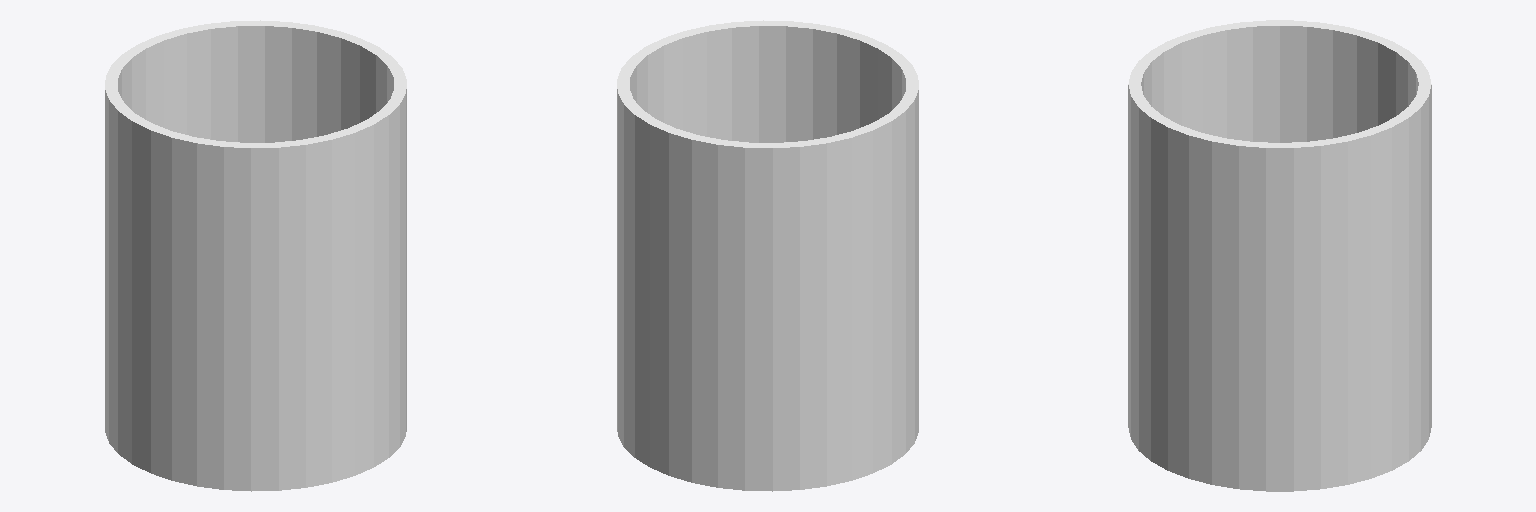
URDF robot description (big_cup.SLDPRT):
<?xml version="1.0" encoding="utf-8"?>
<!-- This URDF was automatically created by SolidWorks to URDF Exporter! Originally created by [author] ([email redacted]) 
     Commit Version: 1.5.1-0-g916b5db  Build Version: 1.5.7152.31018
     For more information, please see http://wiki.ros.org/sw_urdf_exporter -->
<robot
  name="big_cup.SLDPRT">
  <link
    name="big_cup">
    <inertial>
      <origin
        xyz="5.8018E-35 -6.10564842751986E-18 0.056824"
        rpy="0 0 0" />
      <mass
        value="0.1098" />
      <inertia
        ixx="0.00041227"
        ixy="-2.5101E-36"
        ixz="-7.6813E-36"
        iyy="0.00041227"
        iyz="1.3701315869011E-20"
        izz="0.00031239" />
    </inertial>
    <visual>
      <origin
        xyz="0 0 0"
        rpy="1.5707963267949 0 0" />
      <geometry>
        <mesh
          filename="package://big_cup/meshes/big_cup.STL" />
      </geometry>
      <material
        name="">
        <color
          rgba="1 1 1 1" />
        <texture
          filename="package://big_cup/textures/" />
      </material>
    </visual>
    <collision>
      <origin
        xyz="0 0 0"
        rpy="1.5707963267949 0 0" />
      <geometry>
        <mesh
          filename="package://big_cup/meshes/big_cup.STL" />
      </geometry>
    </collision>
  </link>
</robot>

--- What the picture shows (computed from the rendered views, not written in the file) ---
Views: 3 orthographic renders of the robot side by side, from view 1: azimuth 30°, elevation 25°; view 2: azimuth 150°, elevation 25°; view 3: azimuth 270°, elevation 25°.
Model big_cup.SLDPRT with 1 links and 0 joints (none), rooted at big_cup, posed every joint at zero.
Links seen in each view (by area): view 1: big_cup; view 2: big_cup; view 3: big_cup.
Link boxes in pixels (<box>): big_cup: <box>105,20,406,491</box>; big_cup: <box>617,20,918,491</box>; big_cup: <box>1128,20,1431,491</box>.
Size in the robot's own frame: 0.1195 by 0.12 by 0.15 metres.
Meshes: 1 distinct files referenced, 1 mesh visuals loaded (1 binary STL).